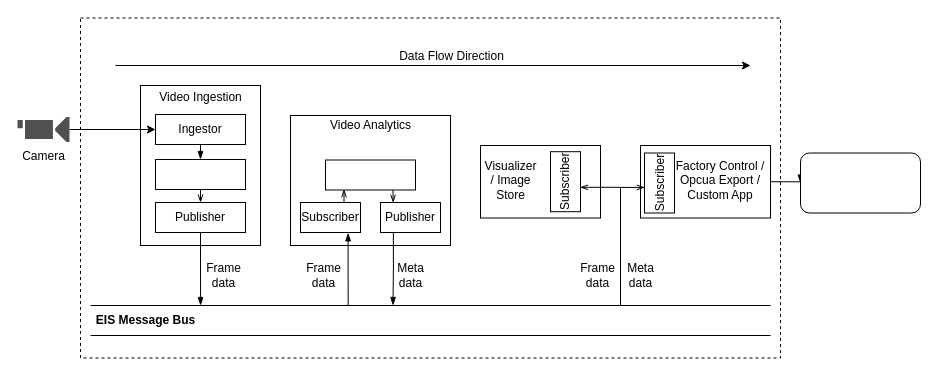
Some shapes in this 938 by 375 pixel diagram are drawn without their labels. The centre of each missing label's shape, as x and y in pixels:
Classifier: the point at 370,174
External modules: the point at 860,182
Filter: the point at 200,174
